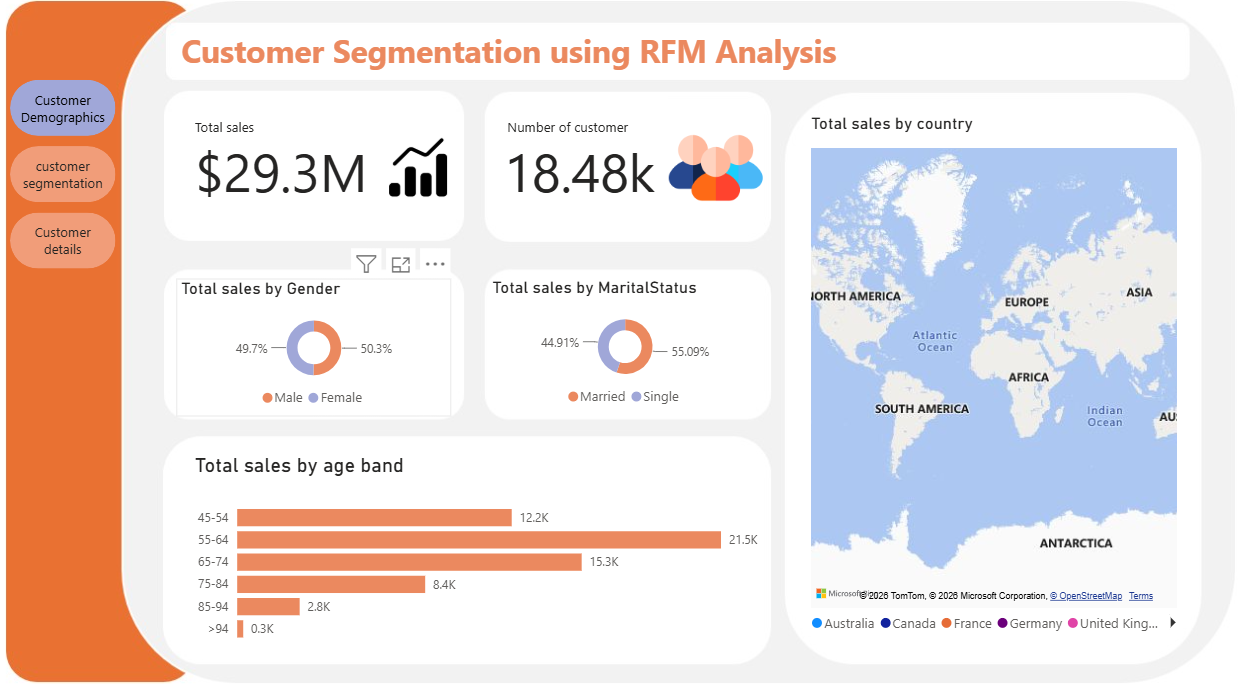

Layout of this report page (visuals, bound fields, positions):
{"tool":"powerbi","page":{"name":"Customer Demographics","canvas":[1280,720],"ordinal":0},"visuals":[{"type":"textbox","box":[202.4,124,208.1,115.5],"z":0},{"type":"textbox","box":[516,106.9,171,132.6],"z":1000},{"type":"image","box":[400.5,142.5,67,71.3],"z":2000},{"type":"image","box":[687,121.2,95.5,115.5],"z":3000},{"type":"donutChart","fields":{"Y":["CountNonNull(FactInternetSales.SalesAmount)"],"Category":["DimCustomer.Gender"]},"box":[188.2,290.8,279.4,139.7],"z":4000},{"type":"donutChart","fields":{"Y":["CountNonNull(FactInternetSales.SalesAmount)"],"Category":["DimCustomer.MaritalStatus"]},"box":[503.6,289.5,279.4,139.7],"z":5000},{"type":"barChart","title":"Total sales by age band","fields":{"Category":["Age sort.Age band "],"Y":["CountNonNull(FactInternetSales.SalesAmount)"]},"box":[202.4,469,580.1,201],"z":6000},{"type":"textbox","box":[188.2,34.2,1020.6,55.6],"z":7000},{"type":"map","fields":{"Size":["CountNonNull(FactInternetSales.SalesAmount)"],"Series":["DimGeography.country"]},"box":[827.4,123.5,381.5,535.2],"z":8000},{"type":"pageNavigator","box":[20.3,89.9,107.6,193.7],"z":9000}]}

Visuals, with their boxes in screenshot pixels (x1, y1, x2, y2), scaled from the page's 1280x720 canvas onto the 1244x685 screenshot:
textbox: detection(197, 118, 399, 228)
textbox: detection(501, 102, 668, 228)
image: detection(389, 136, 454, 203)
image: detection(668, 115, 760, 225)
donutChart - CountNonNull(FactInternetSales.SalesAmount) x DimCustomer.Gender: detection(183, 277, 454, 410)
donutChart - CountNonNull(FactInternetSales.SalesAmount) x DimCustomer.MaritalStatus: detection(489, 275, 761, 408)
"Total sales by age band" barChart: detection(197, 446, 760, 637)
textbox: detection(183, 33, 1175, 85)
map - CountNonNull(FactInternetSales.SalesAmount) x DimGeography.country: detection(804, 117, 1175, 627)
pageNavigator: detection(20, 86, 124, 270)
